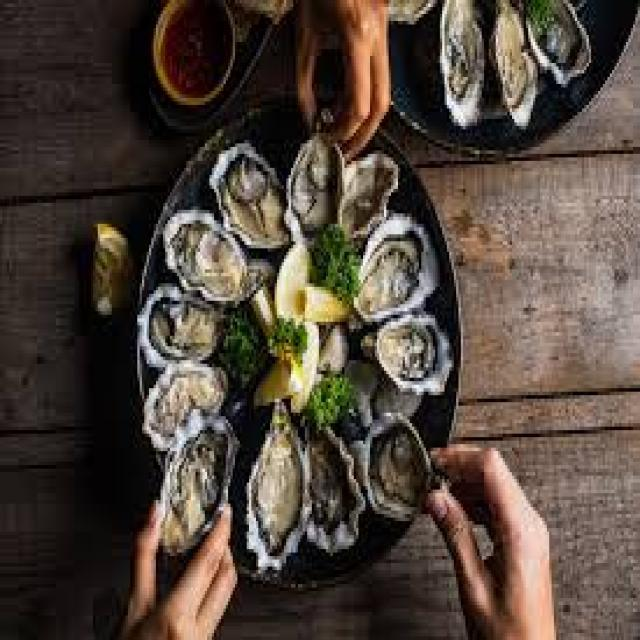Oyster-Open: (160, 416, 239, 554), (248, 400, 310, 571), (164, 211, 270, 301), (354, 214, 438, 322), (349, 419, 435, 520), (210, 144, 289, 248), (142, 361, 228, 451), (304, 430, 366, 552), (138, 284, 224, 368), (376, 315, 452, 393), (492, 0, 538, 127), (440, 0, 484, 127), (526, 0, 591, 84), (339, 152, 399, 239), (288, 134, 341, 229)
